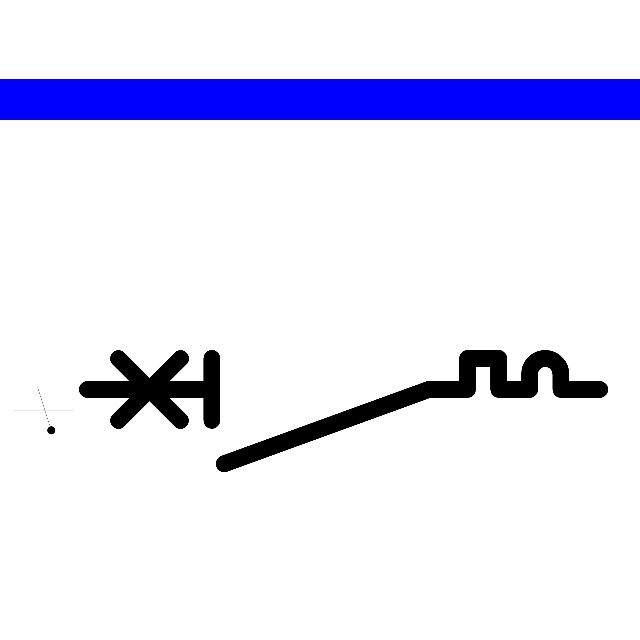interruptor_termomagnetico: (73, 345, 612, 477)
